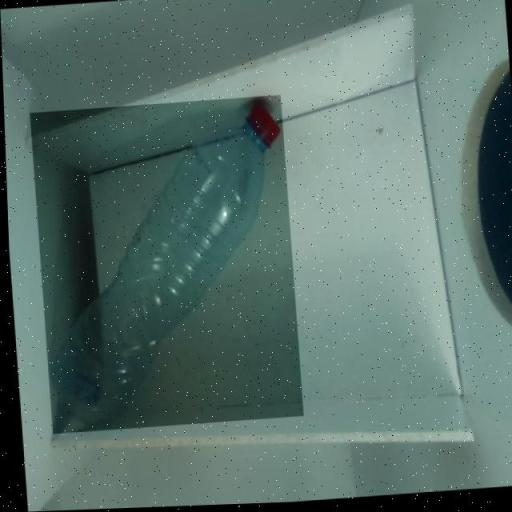plastic: (28, 97, 300, 435)
